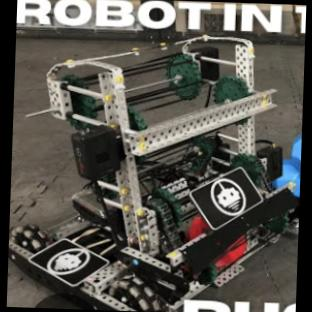Robot: (7, 35, 298, 312)
